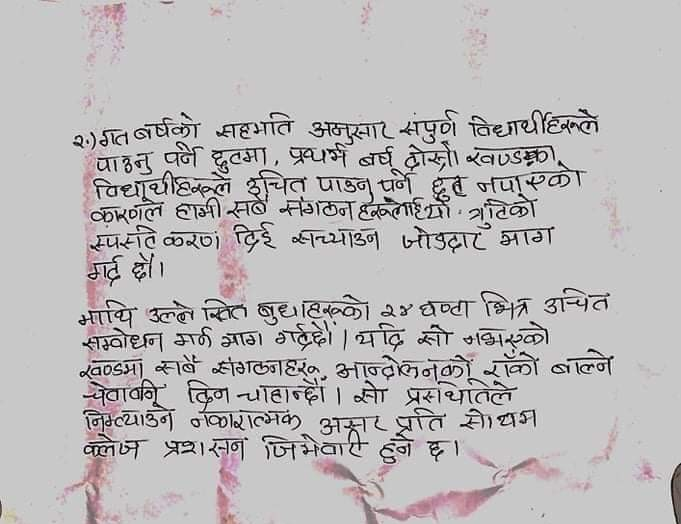text: (256, 289, 371, 325), (332, 351, 474, 380), (466, 107, 611, 134), (91, 172, 236, 199), (260, 432, 365, 464), (402, 382, 521, 407), (472, 165, 581, 192), (88, 228, 221, 250), (461, 321, 561, 350), (398, 225, 488, 257), (355, 194, 454, 223), (210, 353, 320, 377), (238, 378, 332, 406), (81, 405, 178, 432), (465, 139, 561, 166), (161, 435, 249, 464), (291, 225, 385, 252), (188, 407, 303, 429), (301, 114, 392, 141), (132, 107, 203, 141), (465, 193, 540, 225), (212, 110, 293, 139), (543, 283, 616, 315), (474, 282, 531, 321), (281, 193, 356, 222), (206, 140, 275, 171), (553, 348, 618, 380), (456, 410, 554, 431), (85, 198, 164, 224), (401, 106, 458, 141), (79, 381, 165, 404), (242, 167, 310, 196), (271, 322, 341, 350), (80, 435, 147, 464), (73, 299, 139, 328), (81, 329, 164, 351), (352, 321, 407, 352), (496, 222, 561, 248), (403, 142, 460, 171), (231, 221, 278, 256), (83, 252, 127, 289), (200, 292, 252, 323), (287, 143, 351, 168), (481, 352, 545, 377), (79, 356, 149, 378), (313, 171, 374, 196), (418, 293, 473, 320), (169, 197, 226, 223), (318, 412, 386, 433), (182, 379, 232, 407), (126, 250, 159, 291), (372, 168, 424, 194), (95, 151, 151, 175), (148, 296, 194, 325), (392, 407, 447, 431), (416, 320, 456, 352), (218, 326, 267, 351), (377, 434, 414, 467), (429, 171, 470, 200), (160, 141, 204, 168), (153, 354, 203, 376), (172, 325, 215, 350), (353, 381, 391, 408), (95, 121, 131, 149), (227, 196, 273, 217), (422, 440, 453, 469), (358, 146, 395, 169), (377, 298, 412, 319), (69, 125, 91, 151)
